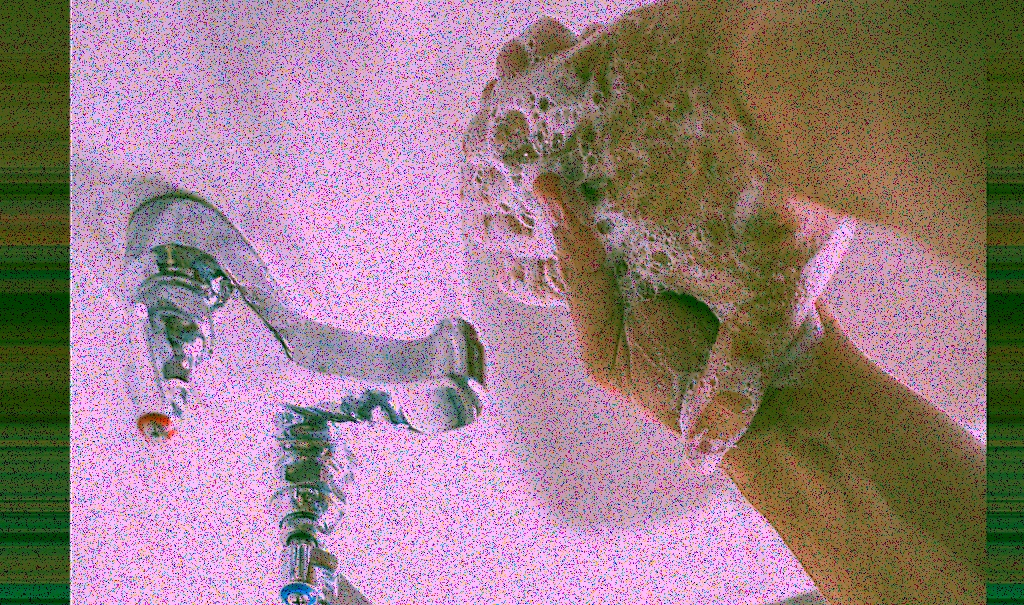washing hand: (248, 6, 895, 600)
